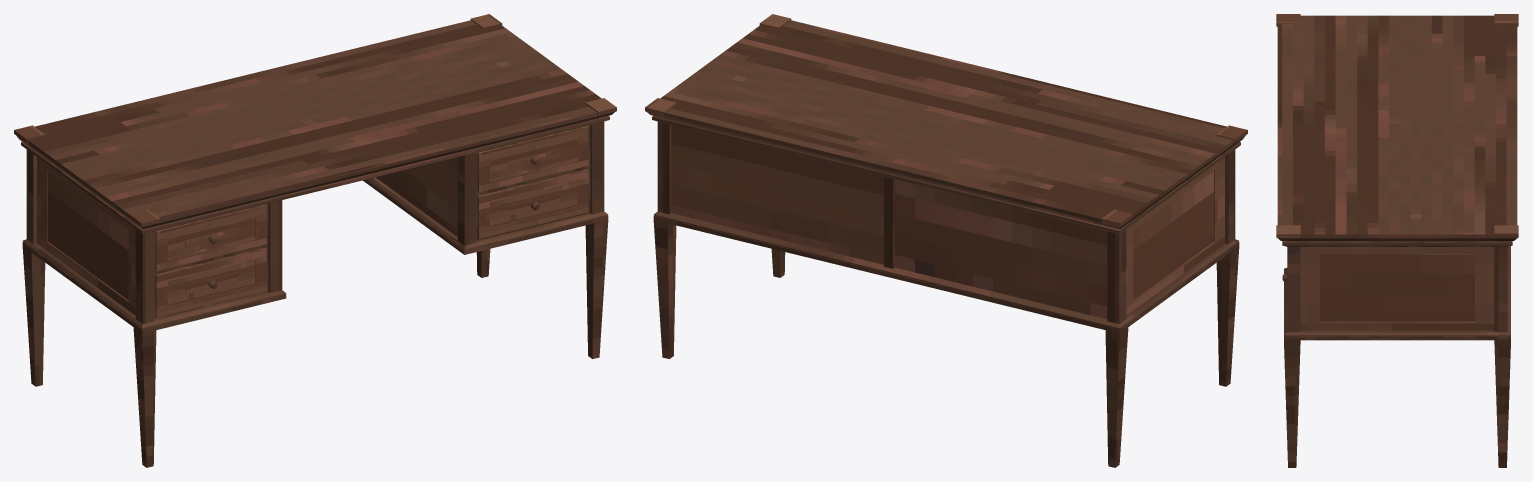
The model's file is desk_boys.fbx.
The picture shows the model from 3 angles, left to right: view 1: azimuth 30°, elevation 25°; view 2: azimuth 150°, elevation 25°; view 3: azimuth 270°, elevation 25°; orthographic projection. The views are drawn at different scales.
Visible parts, largest first — view 1: Desk, Desk_Drawer2, Desk_Drawer4, Desk_Drawer3, Desk_Drawer1; view 2: Desk; view 3: Desk.
Boxes of the visible parts, x1,y1,x2,y2 form: Desk: (14, 14, 616, 467); Desk_Drawer2: (477, 169, 588, 238); Desk_Drawer4: (155, 248, 266, 317); Desk_Drawer3: (155, 204, 266, 270); Desk_Drawer1: (477, 126, 588, 192); Desk: (645, 14, 1247, 467); Desk: (1276, 14, 1518, 467).
Bounding box in the file's own units: 182 × 92.25 × 84.66.
